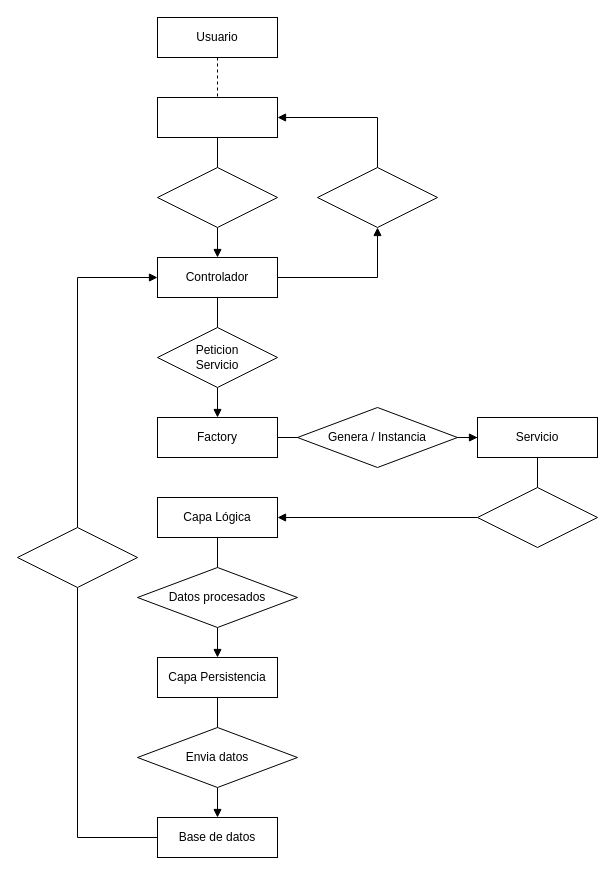
Some shapes in this 615 by 875 pixel diagram are drawn without their labels. The shapes that lost their labels are listed below. From the top down, each one's box as (x1, y1, x2, y2) in pixels, then its label:
(156, 96, 278, 138): Vista
(156, 166, 278, 228): Peticion
(316, 166, 438, 228): Respuesta
(476, 486, 598, 548): Envía datos
(16, 526, 138, 588): Resultado
